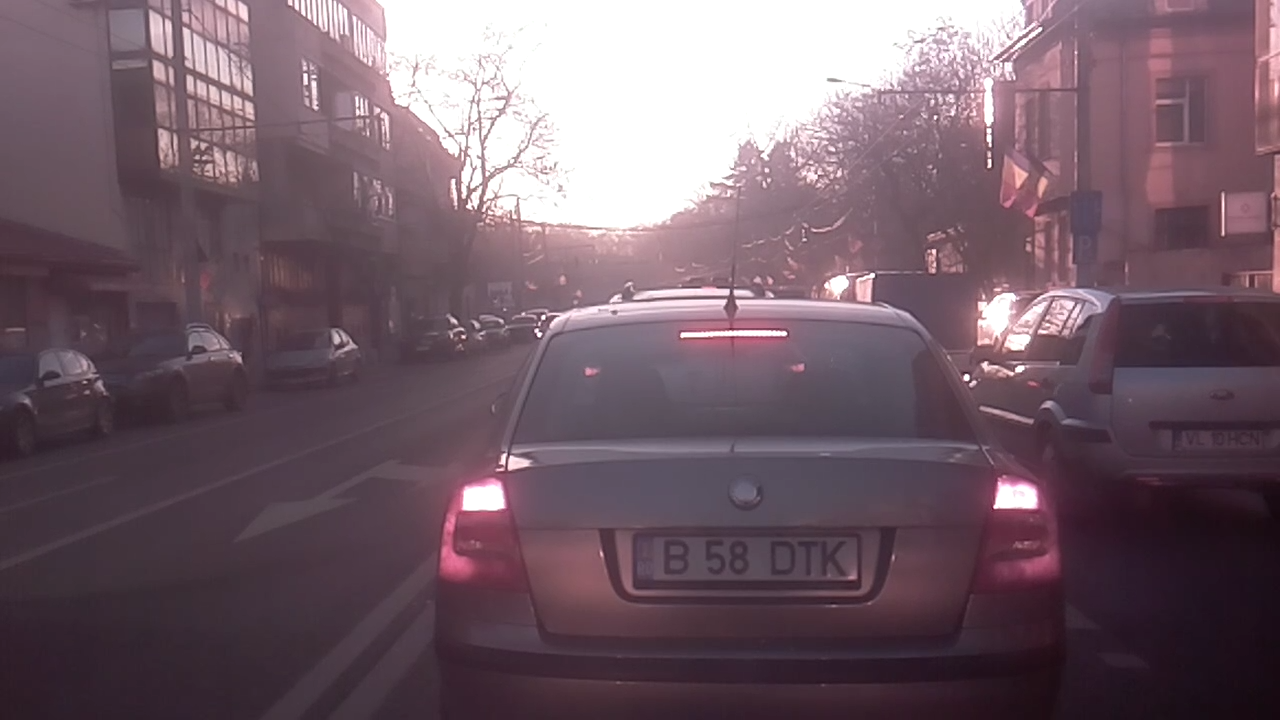license-plate: (624, 526, 867, 593), (1169, 425, 1267, 453)
